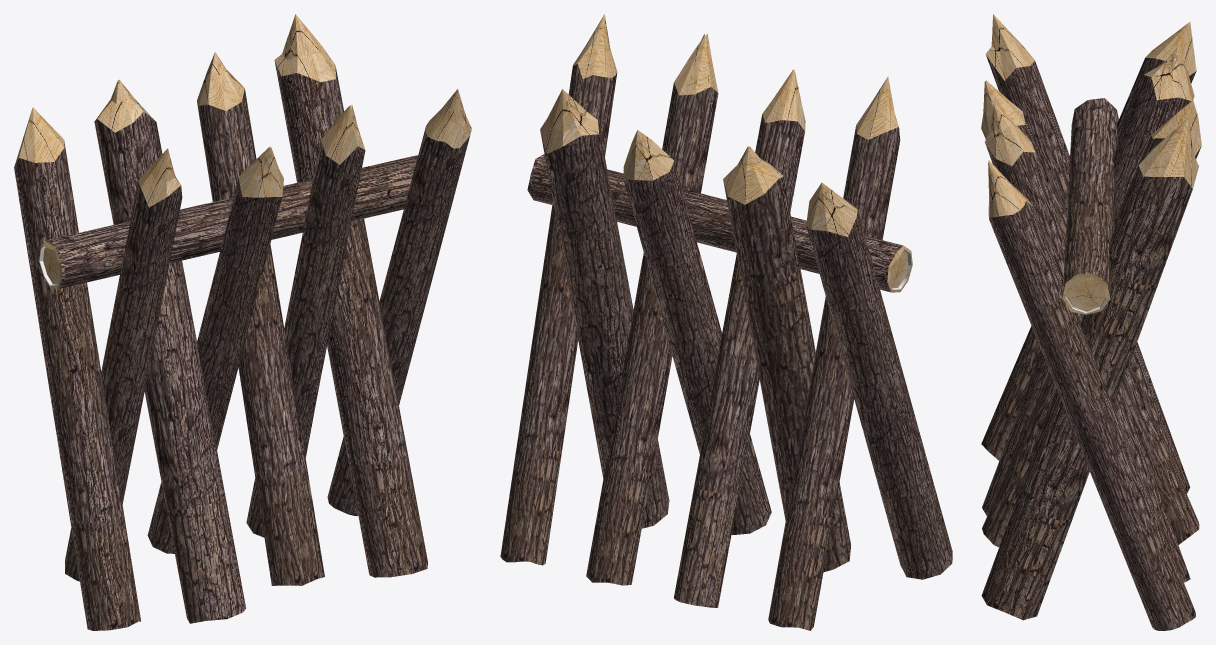
The model's file is woodWall3(1).FBX.
The picture shows the model from 3 angles, left to right: view 1: azimuth 30°, elevation 25°; view 2: azimuth 150°, elevation 25°; view 3: azimuth 270°, elevation 25°; orthographic projection. The views are drawn at different scales.
Parts seen in each view (by area): view 1: Cylinder019, Cylinder001, Cylinder023, Cylinder008, Cylinder024, Cylinder010, Cylinder004, Cylinder025, Cylinder014; view 2: Cylinder019, Cylinder024, Cylinder001, Cylinder010, Cylinder023, Cylinder025, Cylinder004, Cylinder008, Cylinder014; view 3: Cylinder001, Cylinder004, Cylinder014, Cylinder024, Cylinder023, Cylinder010, Cylinder025, Cylinder008, Cylinder019.
Part boxes in pixels (x1=…): Cylinder019: x1=14, y1=107, x2=140, y2=630; Cylinder001: x1=274, y1=14, x2=427, y2=577; Cylinder023: x1=94, y1=79, x2=245, y2=623; Cylinder008: x1=197, y1=52, x2=324, y2=585; Cylinder024: x1=65, y1=148, x2=182, y2=581; Cylinder010: x1=246, y1=105, x2=365, y2=537; Cylinder004: x1=327, y1=89, x2=471, y2=515; Cylinder025: x1=147, y1=146, x2=283, y2=553; Cylinder014: x1=39, y1=155, x2=418, y2=288; Cylinder019: x1=806, y1=182, x2=952, y2=579; Cylinder024: x1=768, y1=76, x2=900, y2=630; Cylinder001: x1=540, y1=89, x2=669, y2=528; Cylinder010: x1=586, y1=34, x2=718, y2=585; Cylinder023: x1=723, y1=146, x2=850, y2=571; Cylinder025: x1=674, y1=69, x2=805, y2=607; Cylinder004: x1=500, y1=14, x2=617, y2=565; Cylinder008: x1=623, y1=130, x2=771, y2=535; Cylinder014: x1=527, y1=154, x2=912, y2=292; Cylinder001: x1=981, y1=117, x2=1198, y2=620; Cylinder004: x1=988, y1=160, x2=1195, y2=630; Cylinder014: x1=1062, y1=98, x2=1118, y2=314; Cylinder024: x1=985, y1=14, x2=1190, y2=493; Cylinder023: x1=982, y1=47, x2=1194, y2=515; Cylinder010: x1=985, y1=102, x2=1190, y2=582; Cylinder025: x1=981, y1=80, x2=1199, y2=544; Cylinder008: x1=982, y1=100, x2=1201, y2=547; Cylinder019: x1=981, y1=22, x2=1196, y2=460.
Size of the model in its own units: 8.31 by 10.57 by 4.31.
2 materials, 2 textured.
